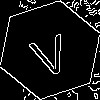V: (25, 25, 74, 79)
